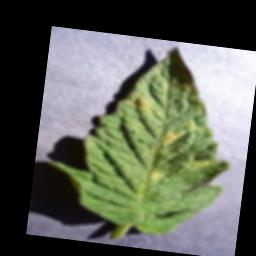Leaf_Mold: (120, 91, 155, 116), (159, 123, 187, 149), (186, 155, 213, 172), (148, 166, 170, 184)
